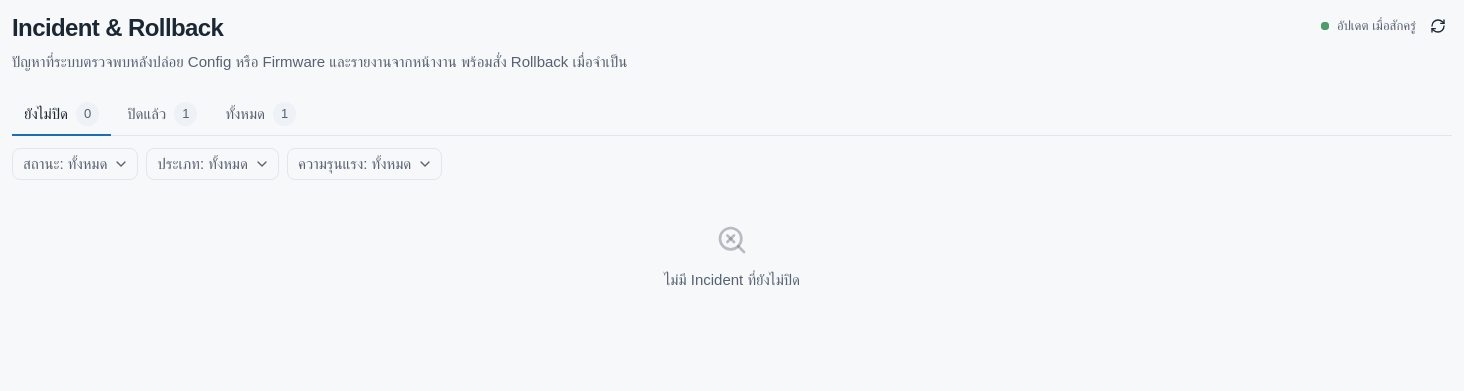
Test: IncidentsView: Field Report › ตัดสินใจไปแล้ว: ไม่มีปุ่ม แสดงหมายเหตุของ Operation และป้ายสถานะ 'ไม่ต้องดำเนินการ'
The image size is (1464, 391).
Note: Incident ที่ปิดแล้วอยู่ในแท็บ "ปิดแล้ว" ไม่อยู่ในแท็บเริ่มต้น กดแท็บก่อนถึงจะเห็นแถวนี้
Click the button "ปิดแล้ว 1" at (162, 115), box left=115, top=94, right=209, bottom=136
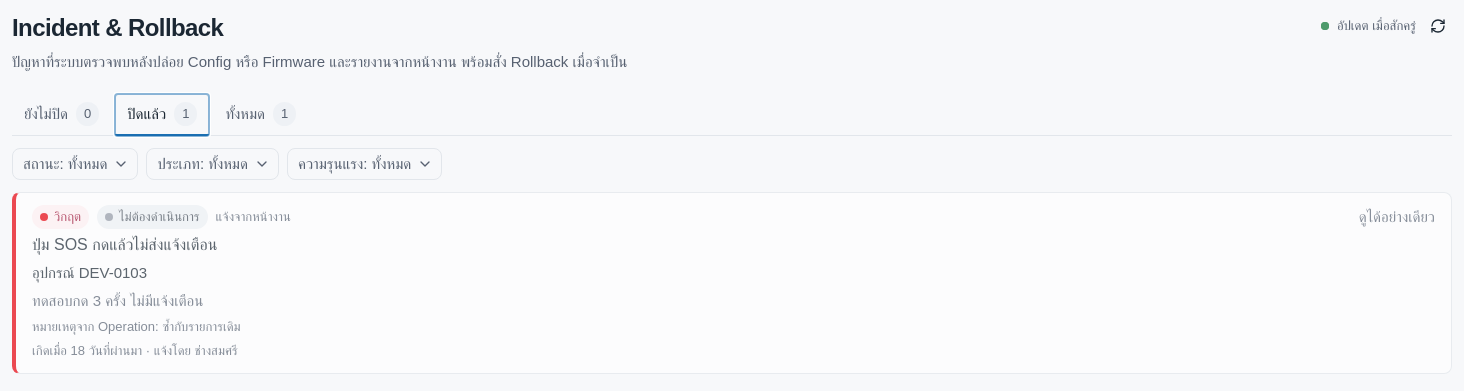
Result: the text "หมายเหตุจาก Operation: ซ้ำกับรายการเดิม" is shown at left=32, top=319, right=241, bottom=334
Result: the text "ไม่ต้องดำเนินการ" is shown at left=97, top=205, right=208, bottom=229
